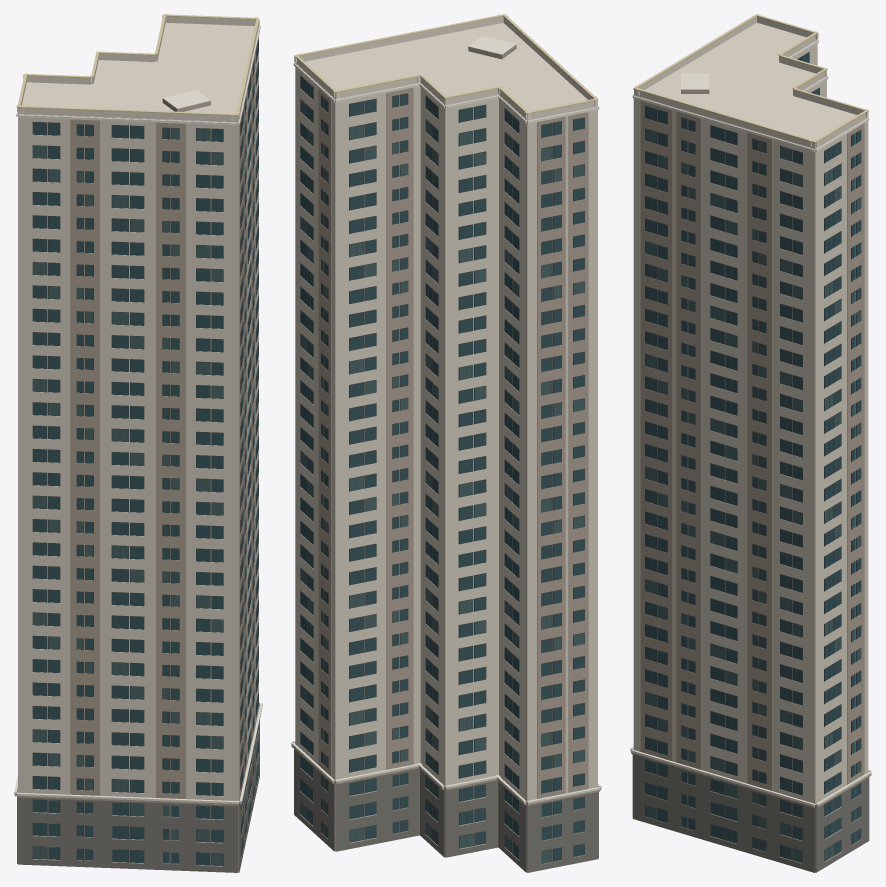
File: bespoke-raemian-prestige-120.glb
3 views of the same model, side by side, from view 1: azimuth 30°, elevation 25°; view 2: azimuth 150°, elevation 25°; view 3: azimuth 270°, elevation 25° (orthographic). The views are drawn at different scales.
Visible parts, largest first — view 1: Prestige_warm_ivory_rendered_wall006, Prestige_recessed_blue_green_window006, Prestige_wide_taupe_pilasters006, Prestige_dark_bronze_thin_window_frame006, Prestige_dark_brown_grey_stone_base006, Prestige_muted_green_window_pair006, Prestige_pale_limestone_band006, Prestige_cream_gold_crown_coping006; view 2: Prestige_warm_ivory_rendered_wall006, Prestige_recessed_blue_green_window006, Prestige_wide_taupe_pilasters006, Prestige_dark_bronze_thin_window_frame006, Prestige_dark_brown_grey_stone_base006, Prestige_muted_green_window_pair006, Prestige_pale_limestone_band006, Prestige_cream_gold_crown_coping006; view 3: Prestige_warm_ivory_rendered_wall006, Prestige_wide_taupe_pilasters006, Prestige_recessed_blue_green_window006, Prestige_dark_bronze_thin_window_frame006, Prestige_dark_brown_grey_stone_base006, Prestige_muted_green_window_pair006, Prestige_pale_limestone_band006, Prestige_cream_gold_crown_coping006.
Boxes of the visible parts, x1=… form: Prestige_warm_ivory_rendered_wall006: x1=18, y1=17, x2=258, y2=871; Prestige_recessed_blue_green_window006: x1=33, y1=39, x2=258, y2=865; Prestige_wide_taupe_pilasters006: x1=14, y1=57, x2=261, y2=864; Prestige_dark_bronze_thin_window_frame006: x1=32, y1=39, x2=258, y2=866; Prestige_dark_brown_grey_stone_base006: x1=17, y1=705, x2=259, y2=872; Prestige_muted_green_window_pair006: x1=33, y1=45, x2=258, y2=865; Prestige_pale_limestone_band006: x1=14, y1=17, x2=262, y2=803; Prestige_cream_gold_crown_coping006: x1=16, y1=14, x2=259, y2=116; Prestige_warm_ivory_rendered_wall006: x1=295, y1=17, x2=597, y2=872; Prestige_recessed_blue_green_window006: x1=300, y1=76, x2=584, y2=861; Prestige_wide_taupe_pilasters006: x1=291, y1=45, x2=601, y2=864; Prestige_dark_bronze_thin_window_frame006: x1=300, y1=75, x2=584, y2=863; Prestige_dark_brown_grey_stone_base006: x1=294, y1=749, x2=598, y2=872; Prestige_muted_green_window_pair006: x1=300, y1=99, x2=584, y2=863; Prestige_pale_limestone_band006: x1=291, y1=35, x2=601, y2=803; Prestige_cream_gold_crown_coping006: x1=294, y1=14, x2=598, y2=114; Prestige_warm_ivory_rendered_wall006: x1=633, y1=17, x2=868, y2=863; Prestige_wide_taupe_pilasters006: x1=630, y1=90, x2=871, y2=852; Prestige_recessed_blue_green_window006: x1=645, y1=52, x2=860, y2=859; Prestige_dark_bronze_thin_window_frame006: x1=645, y1=52, x2=861, y2=863; Prestige_dark_brown_grey_stone_base006: x1=632, y1=754, x2=869, y2=872; Prestige_muted_green_window_pair006: x1=645, y1=129, x2=860, y2=862; Prestige_pale_limestone_band006: x1=630, y1=34, x2=871, y2=806; Prestige_cream_gold_crown_coping006: x1=633, y1=14, x2=868, y2=143.
Size of the model in its own units: 34.71 by 90.5 by 27.11.
